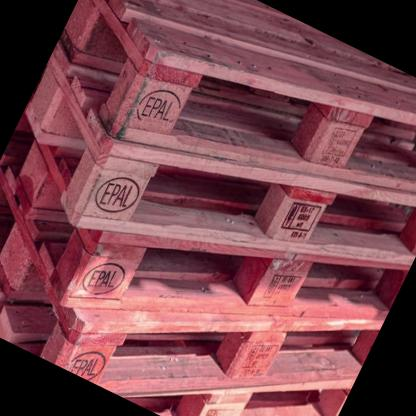BoxFace: (0, 115, 410, 324), (25, 48, 416, 262), (60, 0, 416, 189)
